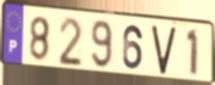1: (185, 28, 201, 78)
2: (58, 15, 83, 67)
6: (122, 23, 144, 72)
8: (28, 15, 52, 63)
9: (90, 19, 115, 70)
V: (150, 25, 178, 76)
